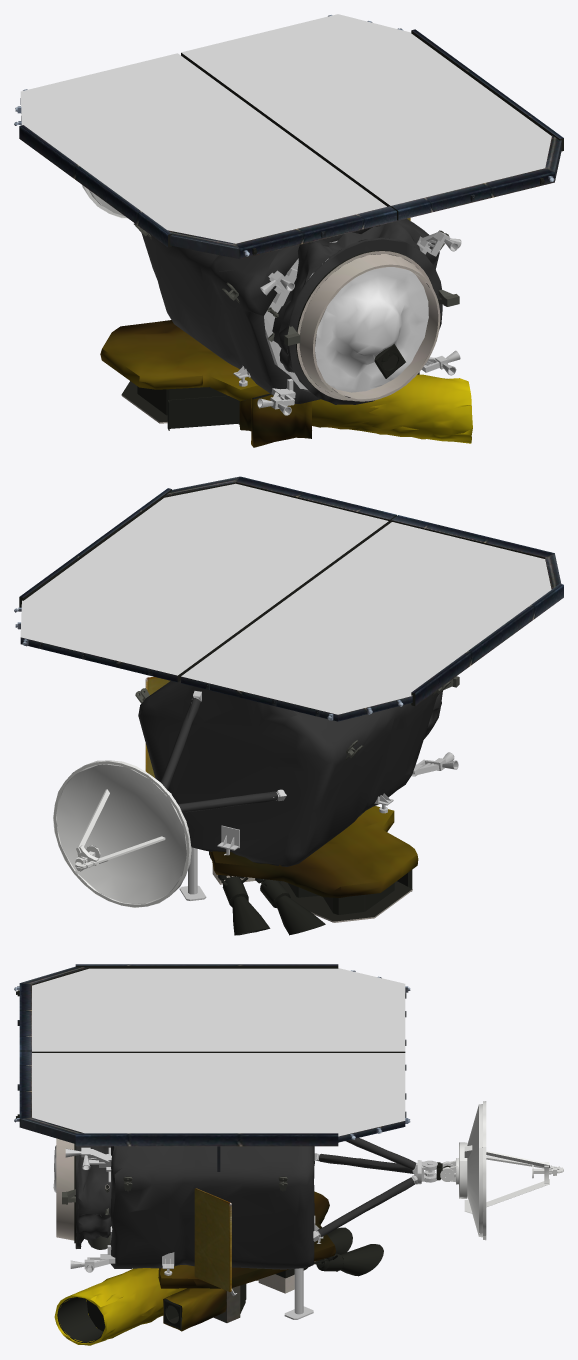
Rendered from deepimpact_lod1.glb.
The picture shows the model from 3 angles, top to bottom: view 1: azimuth 30°, elevation 25°; view 2: azimuth 150°, elevation 25°; view 3: azimuth 270°, elevation 25°; orthographic projection. The views are drawn at different scales.
Visible parts, largest first — view 1: deepimpact_lod1; view 2: deepimpact_lod1; view 3: deepimpact_lod1.
Boxes of the visible parts, x1,y1,x2,y2 form: deepimpact_lod1: (14, 14, 563, 447); deepimpact_lod1: (14, 476, 563, 935); deepimpact_lod1: (14, 964, 563, 1345).
Size of the model in its own units: 2.89 by 2 by 3.93.
Materials: 9 (3 with a texture image).
